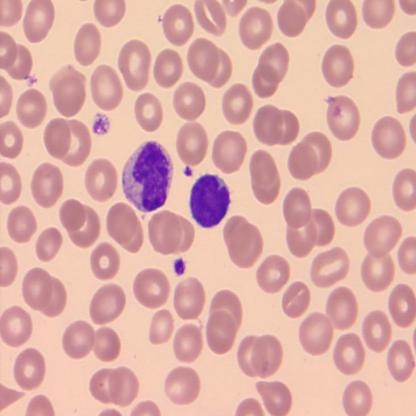Metamyelocyte: (121, 136, 174, 215), (188, 171, 233, 231)
